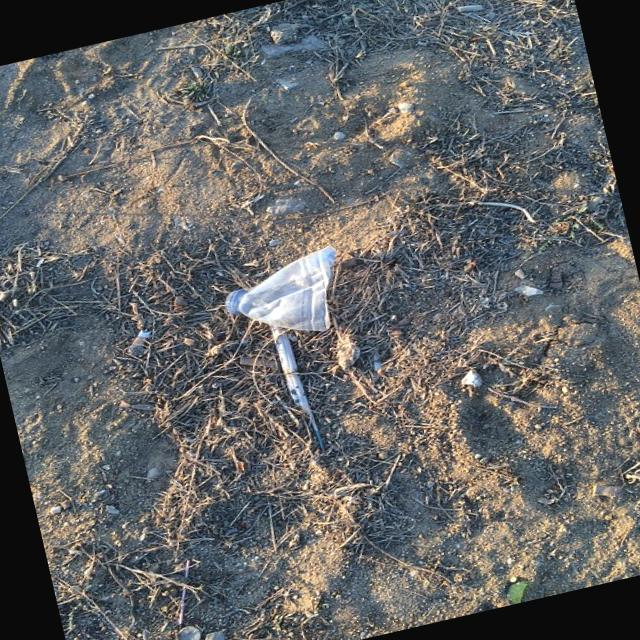Trash: (220, 246, 378, 460)
